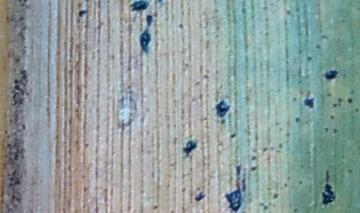tarspot: (321, 181, 336, 206), (226, 189, 241, 213), (183, 137, 197, 156), (140, 29, 151, 52), (129, 1, 151, 12), (217, 100, 230, 118), (303, 95, 315, 109), (324, 69, 338, 80), (233, 161, 242, 176), (194, 190, 205, 201), (76, 8, 88, 18), (240, 176, 247, 192), (323, 169, 331, 182), (145, 15, 153, 27), (346, 164, 353, 175), (281, 180, 289, 189), (229, 131, 237, 139), (322, 125, 330, 133), (271, 191, 279, 199), (151, 204, 160, 211), (261, 145, 269, 152), (293, 116, 301, 123), (13, 77, 20, 85), (15, 84, 22, 92), (262, 203, 269, 211), (285, 8, 292, 16), (20, 123, 27, 131), (291, 94, 297, 103), (337, 95, 343, 104), (346, 97, 353, 104), (219, 118, 227, 124), (250, 165, 258, 171), (250, 156, 258, 162), (277, 141, 283, 149), (306, 54, 312, 62), (315, 42, 321, 50), (332, 127, 338, 135), (350, 87, 355, 96), (178, 21, 183, 29), (327, 90, 332, 98), (298, 179, 304, 185), (329, 114, 336, 119), (355, 107, 360, 113), (293, 207, 298, 213), (332, 104, 339, 108), (158, 1, 163, 4)
